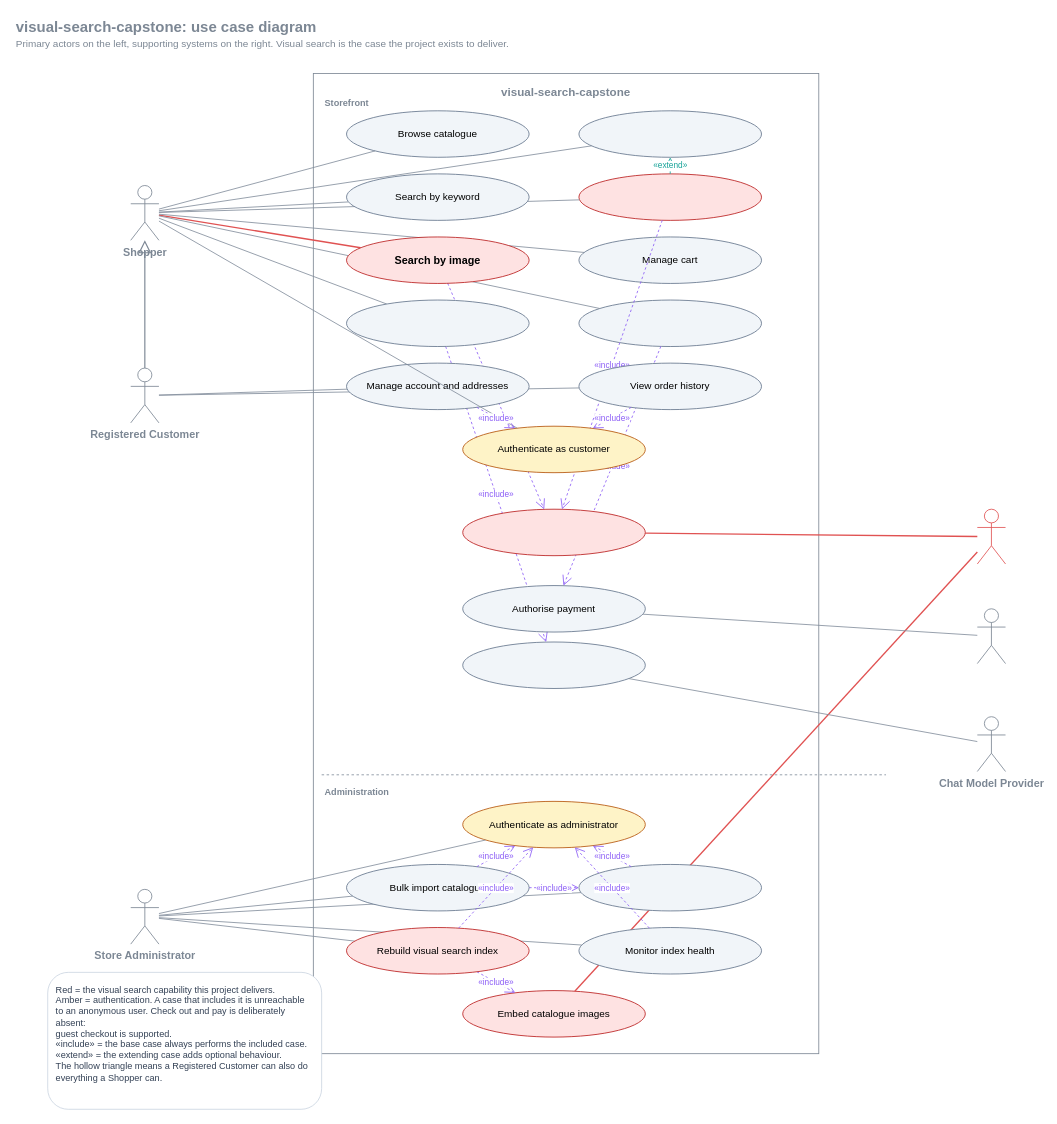
This 1057x1124 diagram has some shape labels left out. The shapes that lost their labels are listed below. From the top down, each one's box as (x1, y1, x2, y2) in pixels, then its label:
(578, 110, 762, 157): View product details
(578, 173, 762, 220): View similar products
(346, 299, 529, 347): Ask the shopping assistant
(578, 299, 762, 347): Check out and pay
(462, 508, 645, 556): Embed uploaded image
(976, 508, 1006, 564): Embedding Service
(976, 608, 1006, 664): Payment Provider
(462, 641, 645, 688): Generate grounded answer
(578, 864, 762, 911): Manage products
